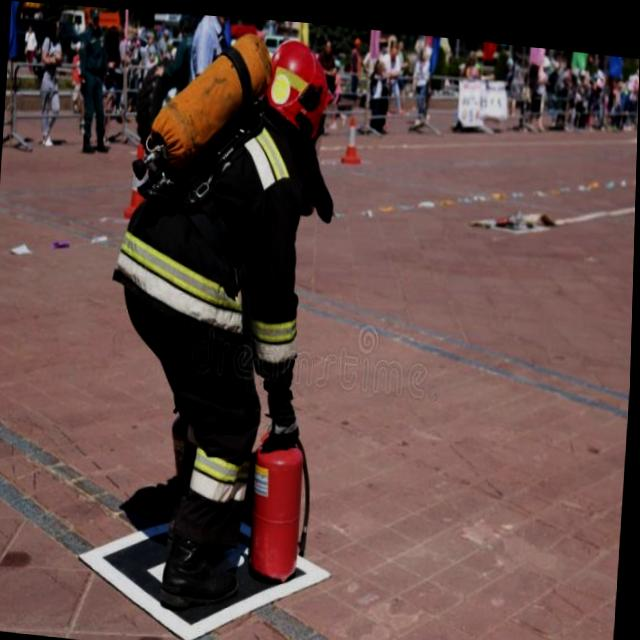FireExtinguisher: (246, 401, 319, 585), (165, 380, 235, 511)
